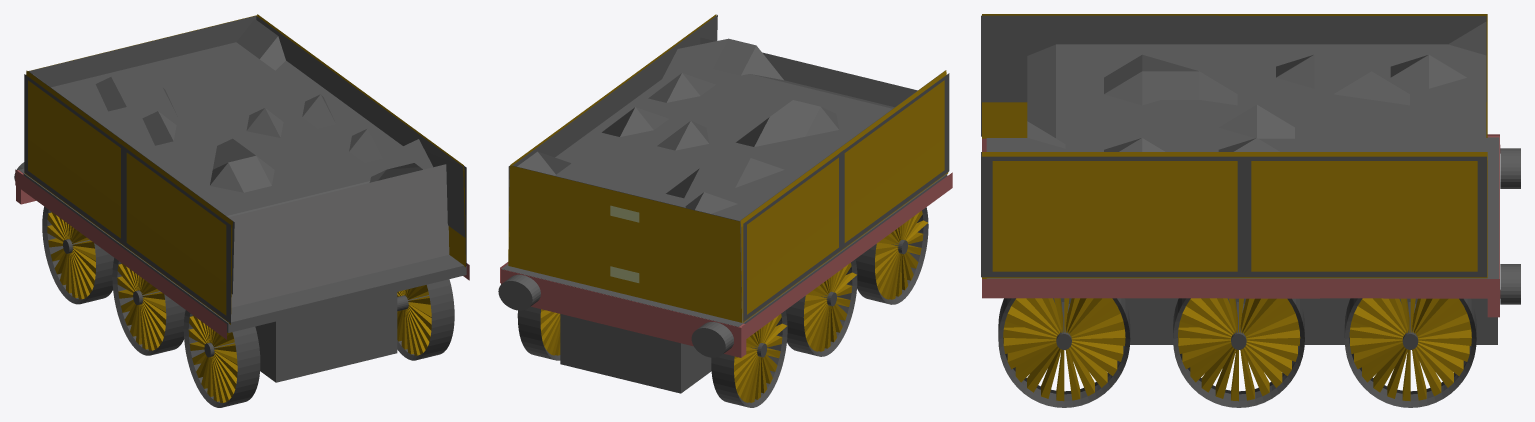
Rendered from lbscr-gladstone-tender.dae.
3 views of the same model, side by side, from view 1: azimuth 30°, elevation 25°; view 2: azimuth 150°, elevation 25°; view 3: azimuth 270°, elevation 25° (orthographic). The views are drawn at different scales.
Visible parts, largest first — view 1: Plane_028, Plane_055, Plane_007, Plane_013, Cylinder_000, Plane_001, Plane_006, Plane, Cylinder_005, Cylinder_008, Plane_009, Plane_008 (+4 smaller); view 2: Plane_028, Plane_005, Plane_007, Plane_001, Plane_006, Cylinder_008, Plane_004, Cylinder_000, Cylinder_005, Plane_013, Plane_009, Plane_055 (+7 smaller); view 3: Plane_028, Plane_017, Plane_019, Plane_013, Cylinder_000, Cylinder_008, Cylinder_005, Plane_015, Plane_011, Plane_001, Plane, Plane_021 (+5 smaller).
Boxes of the visible parts, <box> form: Plane_028: <box>32,19,432,217</box>; Plane_055: <box>228,164,449,307</box>; Plane_007: <box>28,80,232,287</box>; Plane_013: <box>28,15,464,294</box>; Cylinder_000: <box>183,279,454,407</box>; Plane_001: <box>255,292,397,382</box>; Plane_006: <box>24,139,231,324</box>; Plane: <box>19,168,466,332</box>; Cylinder_005: <box>112,258,185,355</box>; Cylinder_008: <box>42,206,113,304</box>; Plane_009: <box>15,169,226,339</box>; Plane_008: <box>24,74,230,323</box>; Plane_028: <box>517,38,894,220</box>; Plane_005: <box>508,165,741,322</box>; Plane_007: <box>741,80,944,286</box>; Plane_001: <box>560,314,711,393</box>; Plane_006: <box>742,138,948,322</box>; Cylinder_008: <box>517,293,787,407</box>; Plane_004: <box>501,269,746,357</box>; Cylinder_000: <box>855,207,928,304</box>; Cylinder_005: <box>785,259,857,356</box>; Plane_013: <box>512,15,945,292</box>; Plane_009: <box>741,172,952,341</box>; Plane_055: <box>700,37,917,107</box>; Plane_028: <box>1027,22,1486,151</box>; Plane_017: <box>992,160,1487,233</box>; Plane_019: <box>982,233,1487,278</box>; Plane_013: <box>981,15,1486,156</box>; Cylinder_000: <box>998,298,1130,407</box>; Cylinder_008: <box>1344,298,1476,407</box>; Cylinder_005: <box>1173,298,1304,407</box>; Plane_015: <box>982,279,1500,298</box>; Plane_011: <box>981,156,1486,277</box>; Plane_001: <box>1053,298,1497,344</box>; Plane: <box>986,137,1499,278</box>; Plane_021: <box>982,152,1487,160</box>.
Bounding box in the file's own units: 2 × 3.15 × 1.66.
